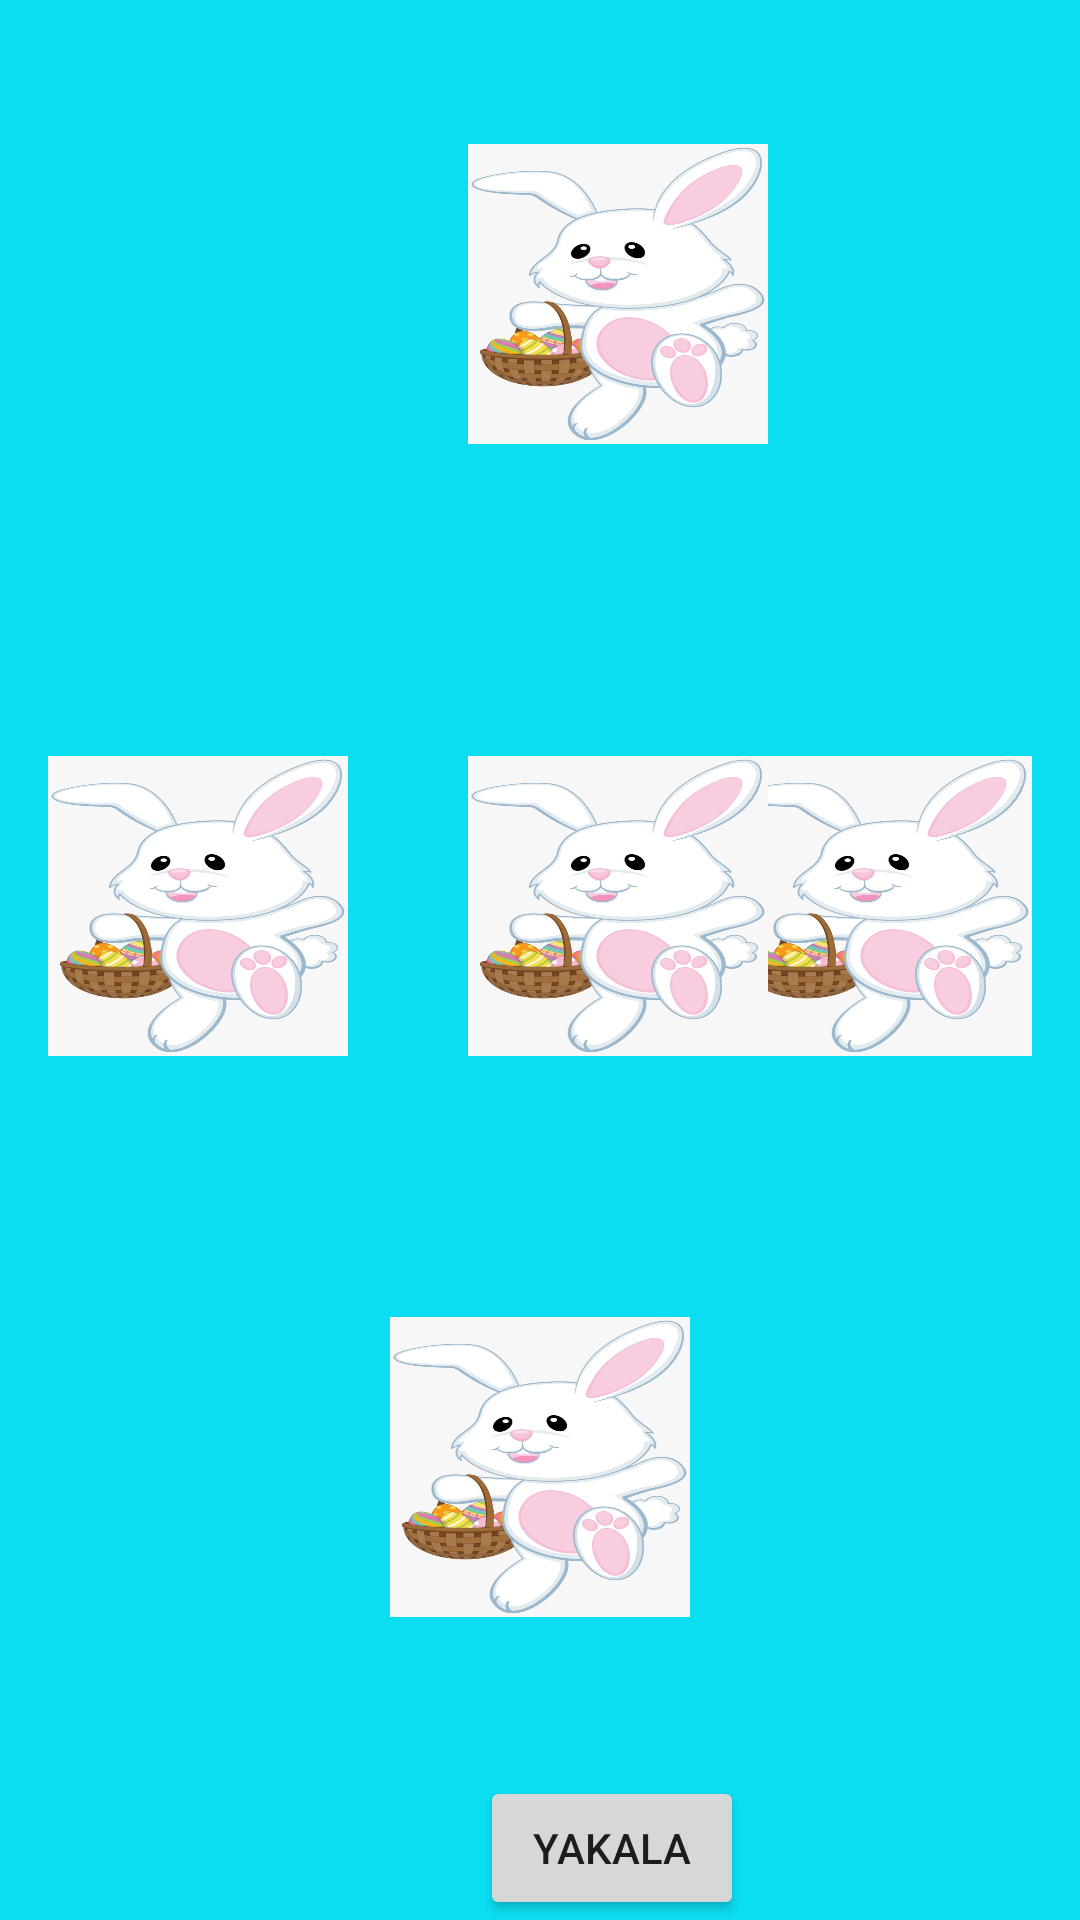

Where icons sit on this 1080x1920 app screen, as (x1, y1, x2, y2):
tavsan: (468, 144, 768, 444), (48, 756, 348, 1056), (468, 756, 768, 1056), (732, 756, 1032, 1056), (390, 1317, 690, 1617)
